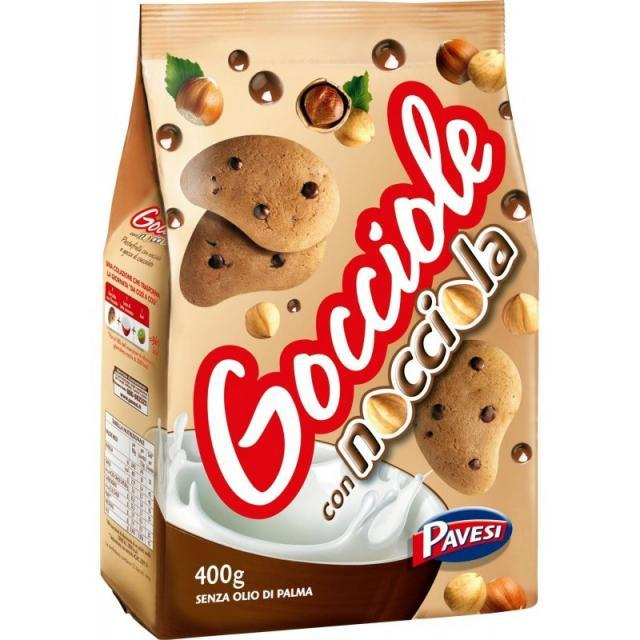Cookie: (178, 128, 343, 258)
